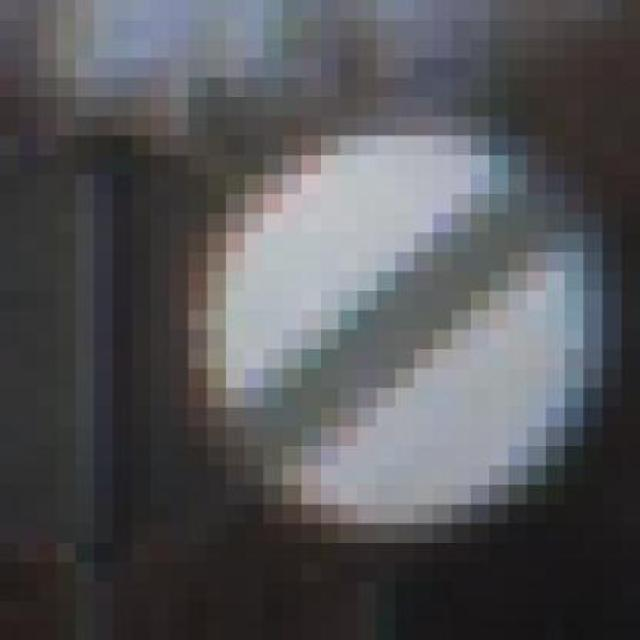End of all speed and passing limits: (150, 116, 622, 544)
